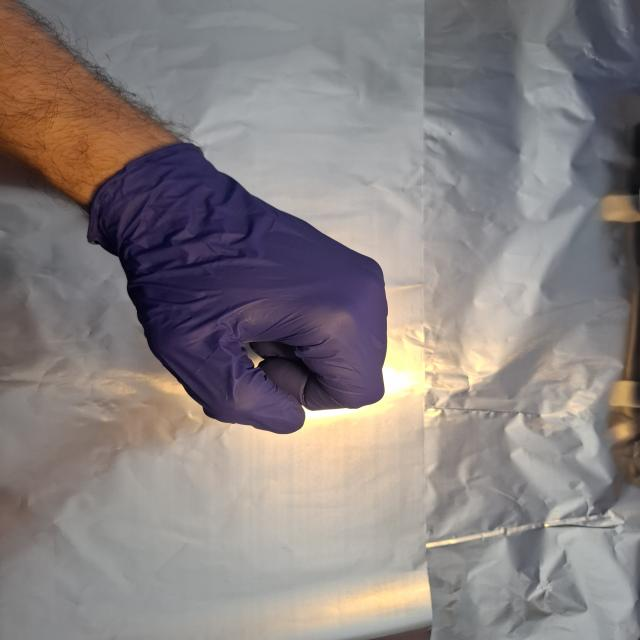glove_on: (82, 140, 393, 438)
